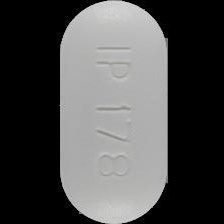68151-4218: (0, 0, 224, 224)
